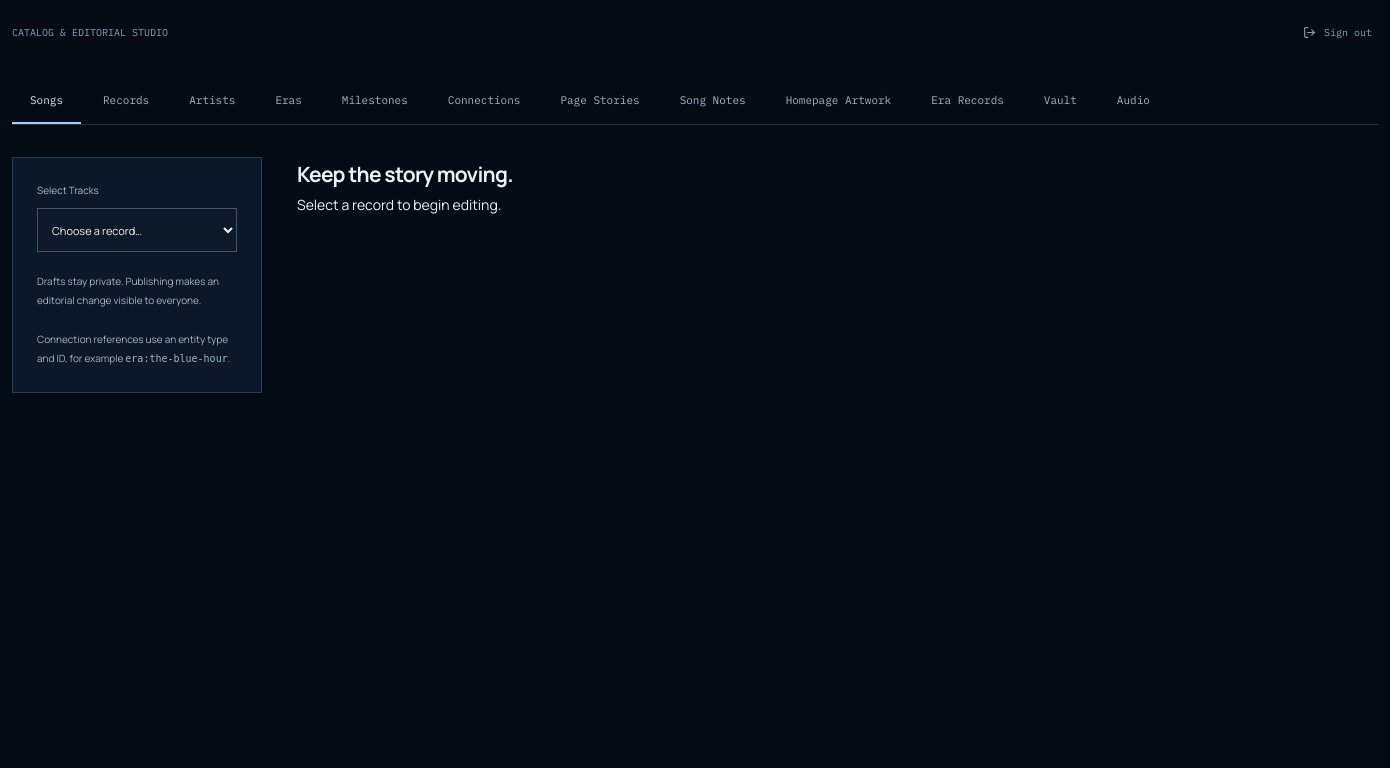
Test case: homepage artwork previews the selected release before explicit publication
Click the button "Homepage Artwork" at x=838, y=101, box [768,78,909,124]
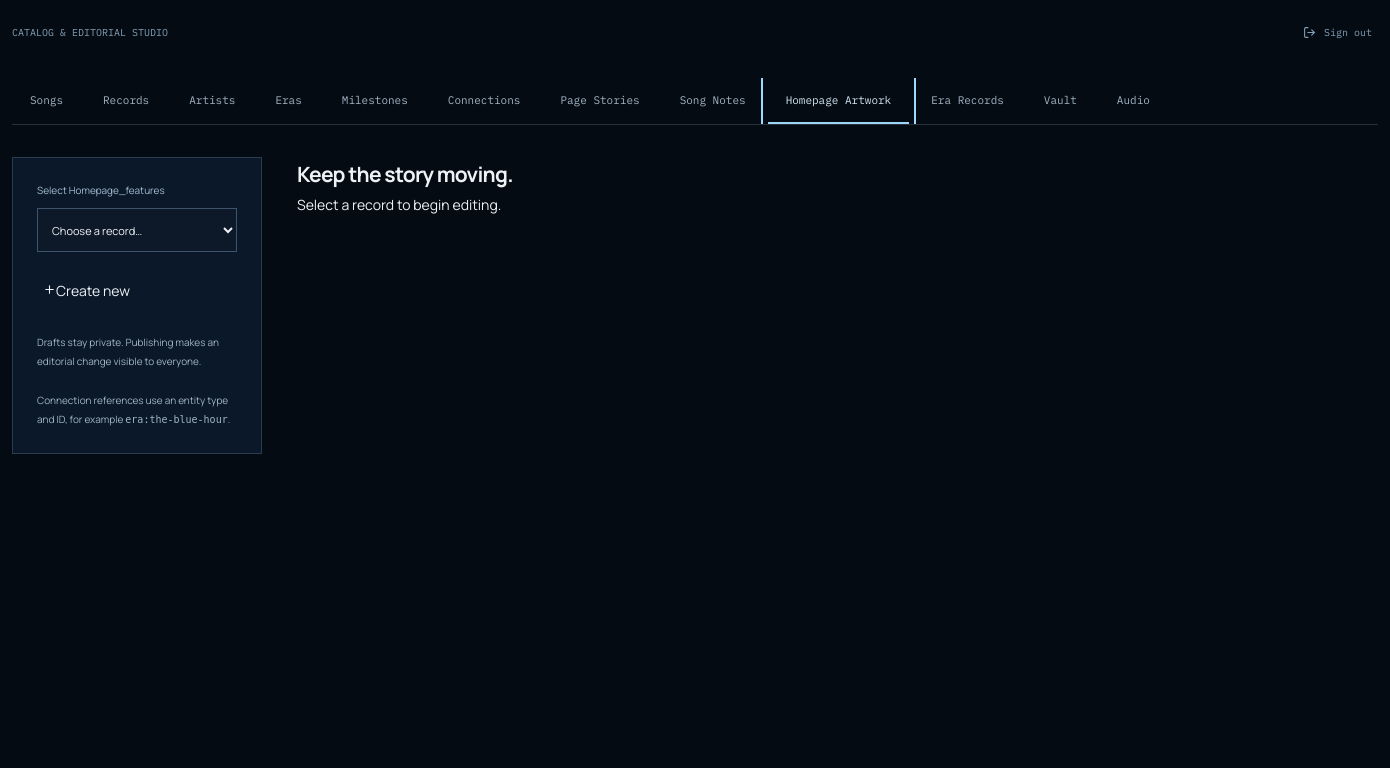
Select "Views" in the dropdown labelled "Select homepage_features" at x=137, y=230, box [37,208,237,252]
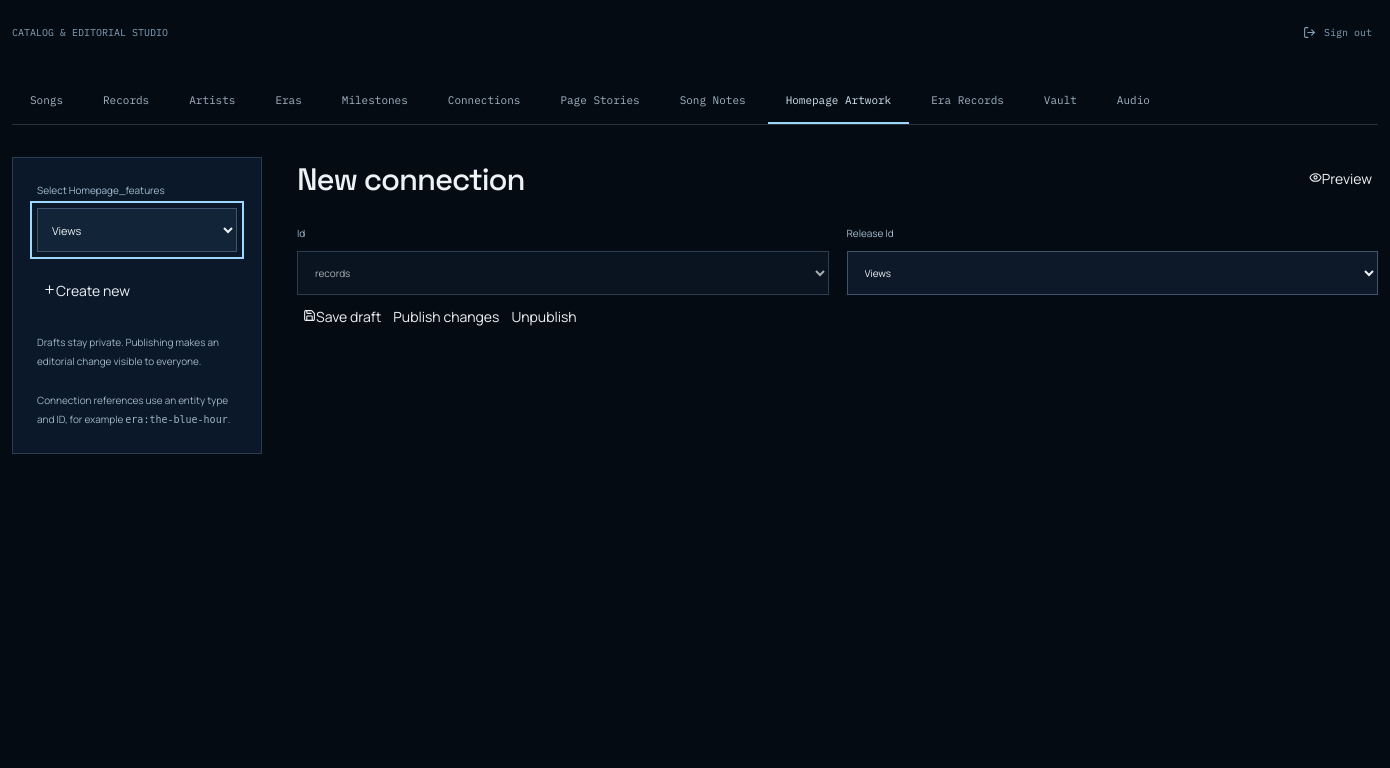
Click the button "Preview" at x=1340, y=179, box [1303,157,1378,201]
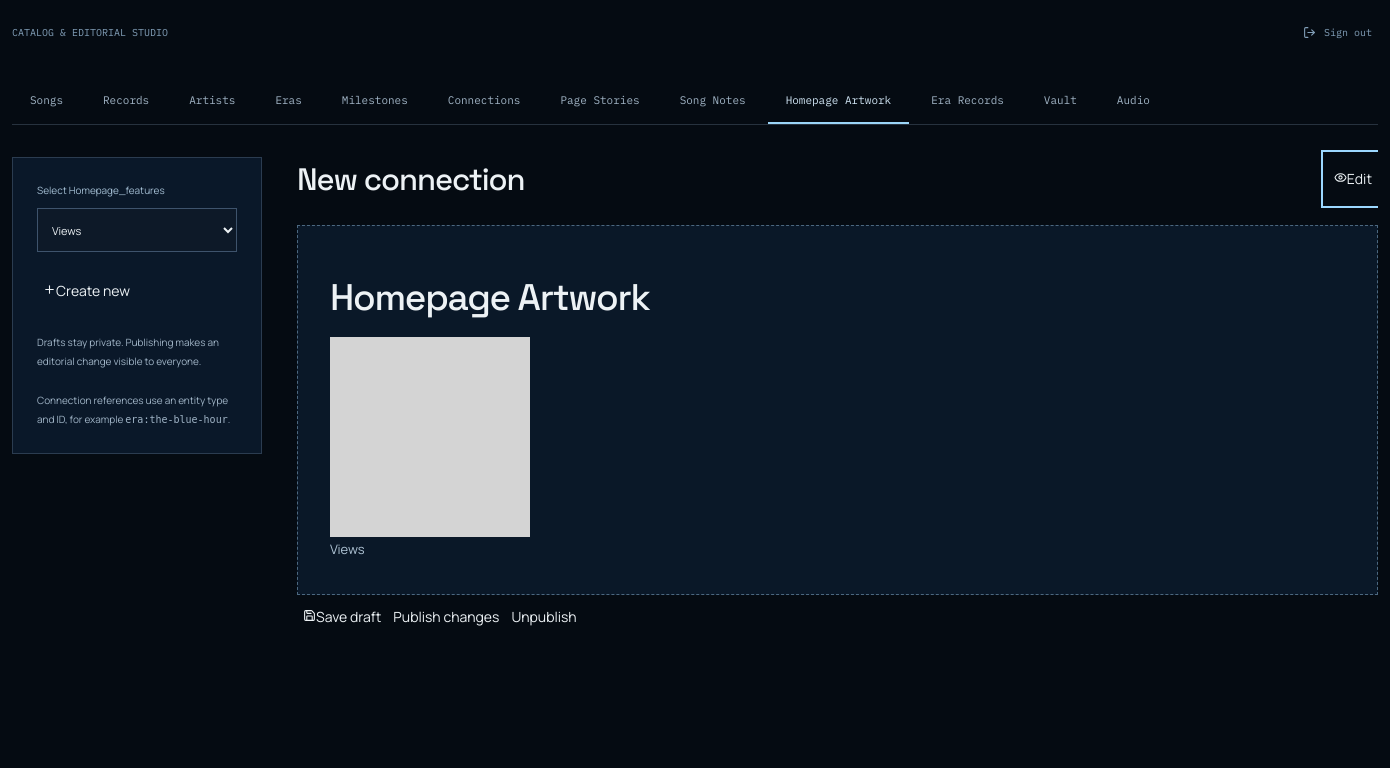
Click the button "Save draft" at x=342, y=617, box [297,595,387,639]
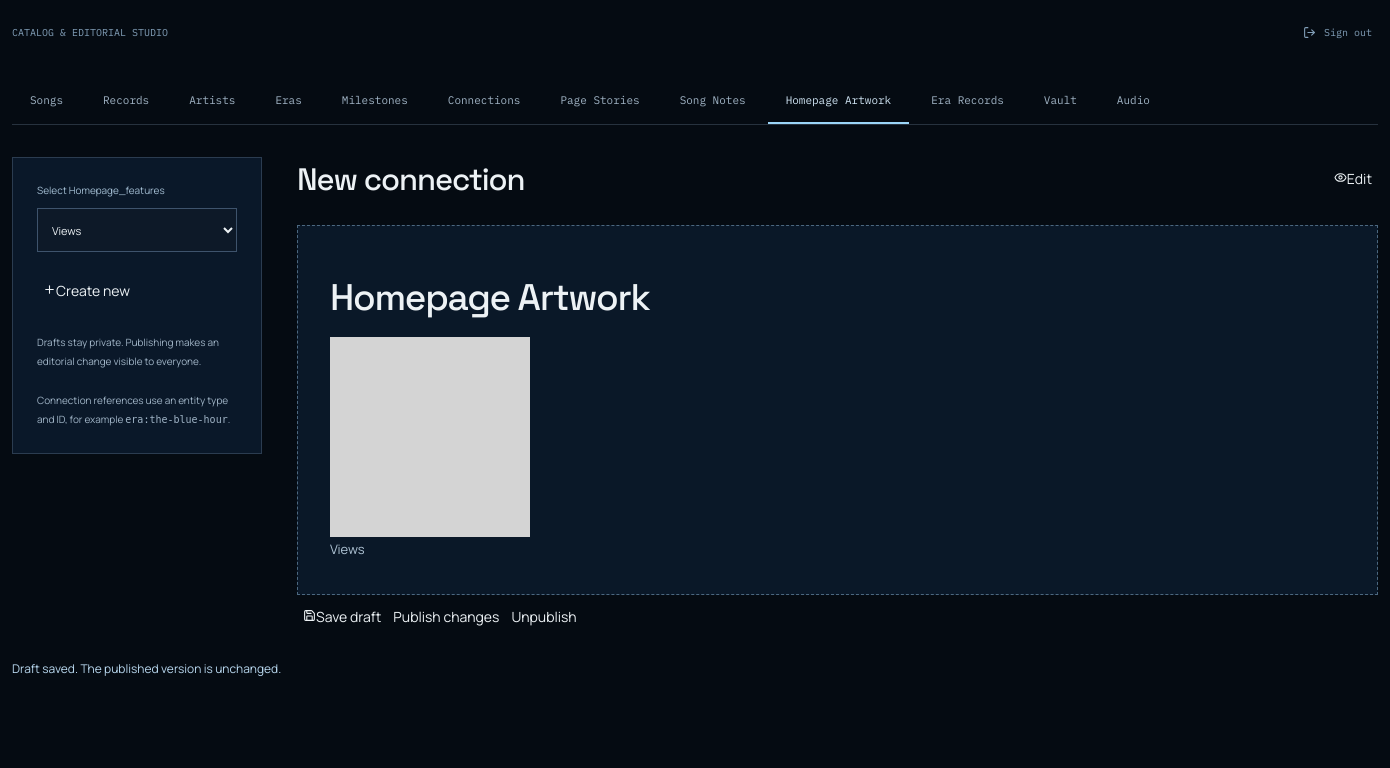
Expected: the text "Draft saved. The published version is unchanged." is shown, [12,660,281,677]
